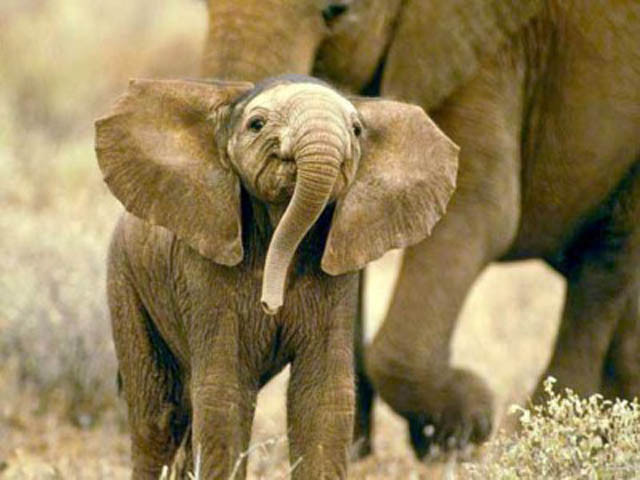elephant: (189, 1, 640, 464), (90, 73, 463, 480)
